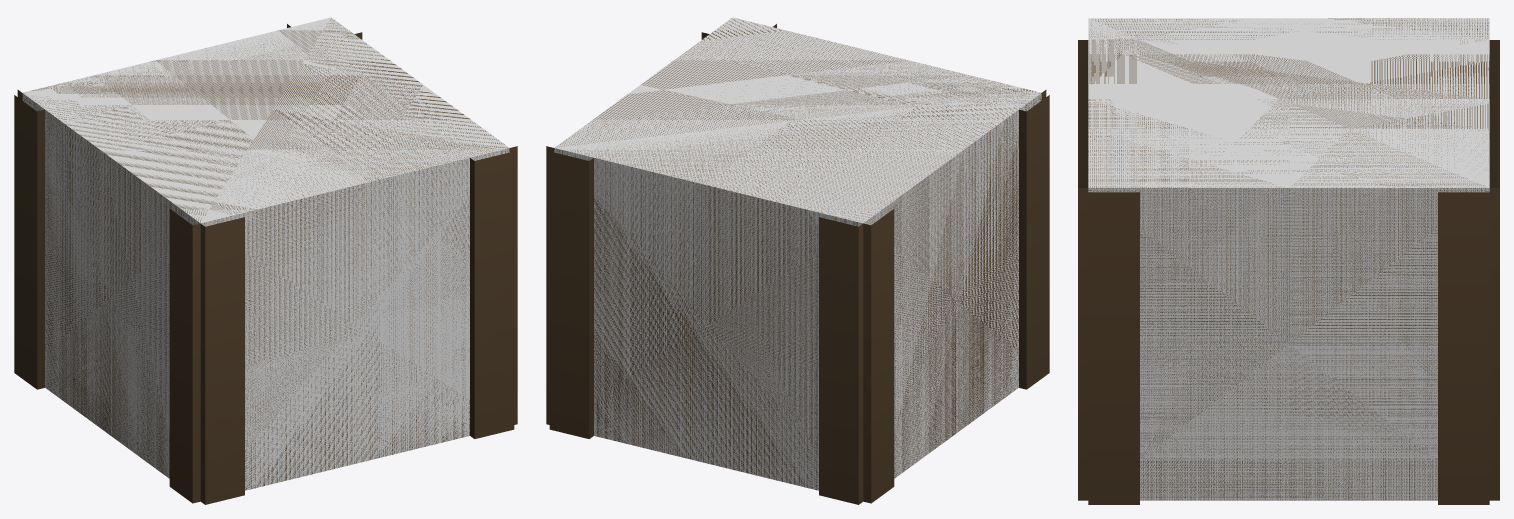
The model's file is crate.glb.
The picture shows the model from 3 angles, left to right: view 1: azimuth 30°, elevation 25°; view 2: azimuth 150°, elevation 25°; view 3: azimuth 270°, elevation 25°; orthographic projection. The views are drawn at different scales.
Parts seen in each view (by area): view 1: COL_crate, crate; view 2: COL_crate, crate; view 3: COL_crate, crate.
Part boxes in pixels (x1,y1,x2,y2): COL_crate: [22, 17, 509, 490]; crate: [14, 19, 517, 504]; COL_crate: [554, 17, 1041, 490]; crate: [546, 18, 1049, 504]; COL_crate: [1088, 18, 1489, 500]; crate: [1078, 18, 1499, 504].
Bounding box in the file's own units: 0.736 × 0.602 × 0.736.
